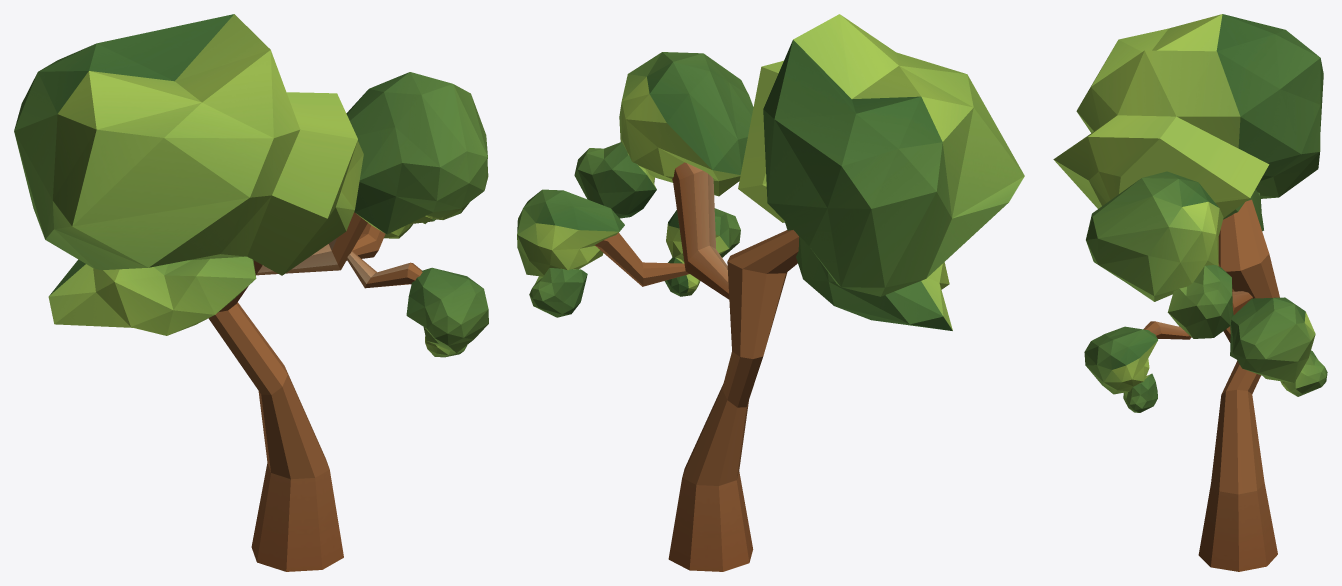
File: Tree_regular_2.fbx
3 views of the same model, side by side, from view 1: azimuth 30°, elevation 25°; view 2: azimuth 150°, elevation 25°; view 3: azimuth 270°, elevation 25° (orthographic). The views are drawn at different scales.
Visible parts, largest first — view 1: tree2; view 2: tree2; view 3: tree2.
Part boxes in pixels (bbox=[...]): tree2: bbox=[14, 14, 488, 571]; tree2: bbox=[517, 14, 1024, 571]; tree2: bbox=[1053, 14, 1327, 571].
Size of the model in its own units: 861 by 981 by 516.
1 material, 1 textured.
